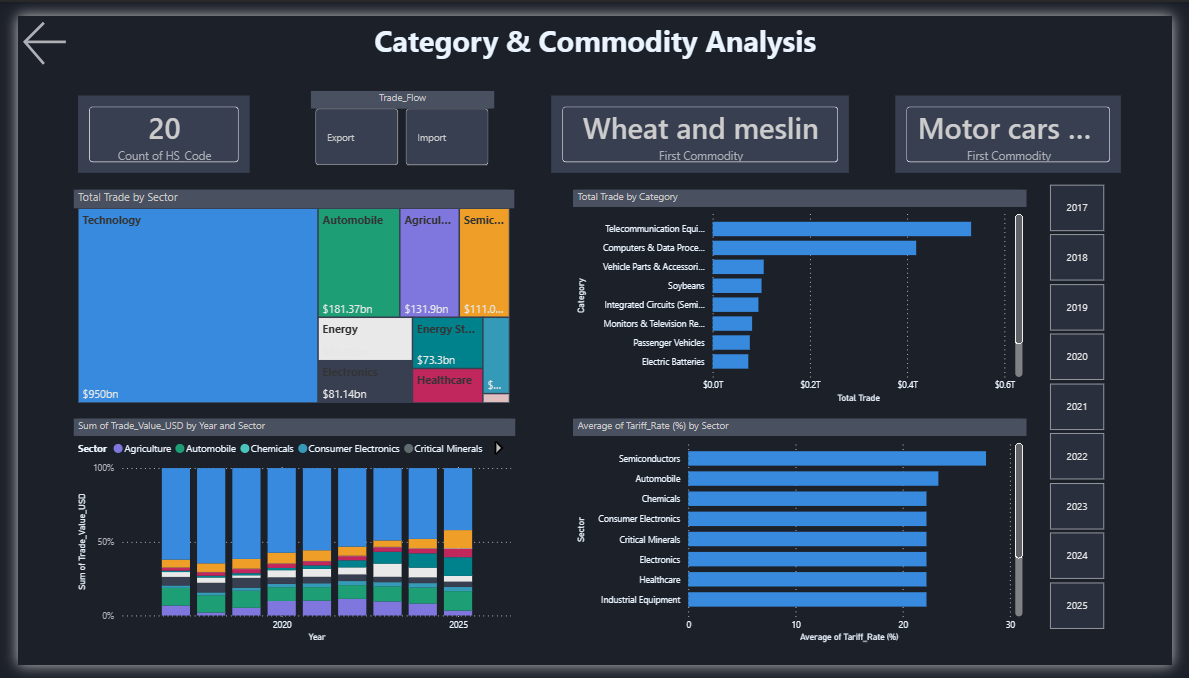

What the dashboard file says about the page in this screenshot:
{"tool":"powerbi","page":{"name":"Page 4","canvas":[1280,720],"ordinal":2},"visuals":[{"type":"cardVisual","fields":{"Data":["Count(trade_total_clean.HS_Code)"]},"box":[61.2,69.7,200.6,96.7],"z":0},{"type":"cardVisual","fields":{"Data":["Min(trade_total_clean.Commodity)"]},"box":[577.5,69.7,341.4,96.7],"z":1000},{"type":"cardVisual","fields":{"Data":["Min(trade_total_clean.Commodity)"]},"box":[968.7,69.7,258.9,96.7],"z":2000},{"type":"clusteredBarChart","fields":{"Y":["trade_total_clean.Total Trade"],"Category":["trade_total_clean.Category"]},"box":[608.8,180.7,502.1,241.8],"z":3000},{"type":"treemap","fields":{"Group":["trade_total_clean.Sector"],"Values":["trade_total_clean.Total Trade"]},"box":[61.2,179.2,489.3,243.2],"z":4000},{"type":"hundredPercentStackedColumnChart","fields":{"Category":["trade_total_clean.Year"],"Series":["trade_total_clean.Sector"],"Y":["Sum(trade_total_clean.Trade_Value_USD)"]},"box":[102.4,433.9,448.1,253.2],"z":5000},{"type":"clusteredBarChart","fields":{"Category":["trade_total_clean.Sector"],"Y":["Avg(trade_total_clean.Tariff_Rate (%))"]},"box":[608.8,433.9,502.1,266],"z":6000},{"type":"slicer","fields":{"Values":["trade_total_clean.Year"]},"box":[1118.1,180.7,109.5,506.4],"z":7000},{"type":"advancedSlicerVisual","fields":{"Values":["trade_total_clean.Trade_Flow"]},"box":[327.2,69.7,203.4,88.2],"z":8000}]}

Visuals, with their boxes in screenshot pixels (x1, y1, x2, y2), scaled from the page's 1280x720 canvas onto the 1189x678 screenshot:
cardVisual - Count(trade_total_clean.HS_Code): rect(57, 66, 243, 157)
cardVisual - Min(trade_total_clean.Commodity): rect(536, 66, 854, 157)
cardVisual - Min(trade_total_clean.Commodity): rect(900, 66, 1140, 157)
clusteredBarChart - trade_total_clean.Total Trade x trade_total_clean.Category: rect(566, 170, 1032, 398)
treemap - trade_total_clean.Sector x trade_total_clean.Total Trade: rect(57, 169, 511, 398)
hundredPercentStackedColumnChart - trade_total_clean.Year x trade_total_clean.Sector: rect(95, 409, 511, 647)
clusteredBarChart - trade_total_clean.Sector x Avg(trade_total_clean.Tariff_Rate (%)): rect(566, 409, 1032, 659)
slicer - trade_total_clean.Year: rect(1039, 170, 1140, 647)
advancedSlicerVisual - trade_total_clean.Trade_Flow: rect(304, 66, 493, 149)
